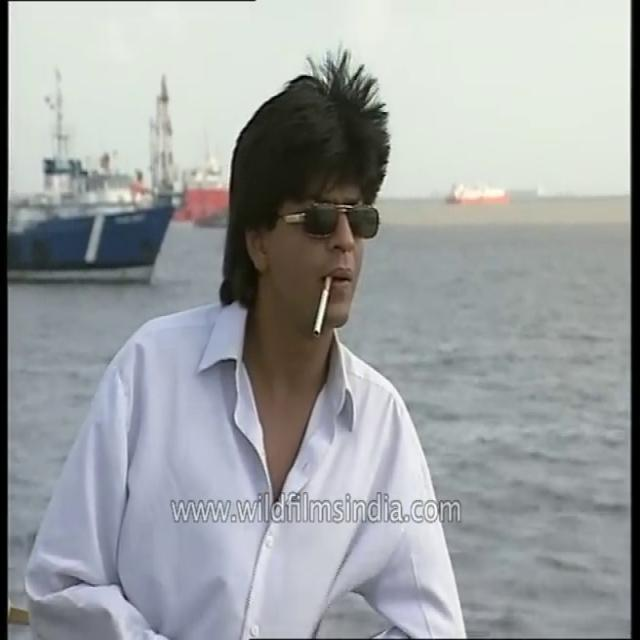Smooking: (309, 270, 337, 348)
